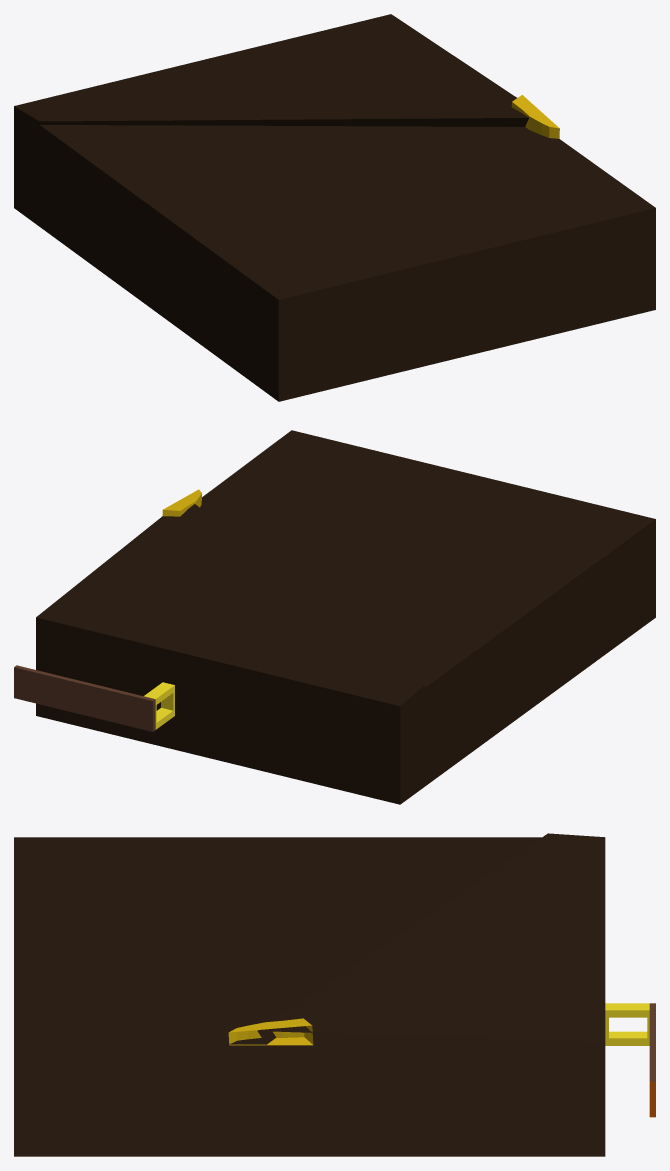
Rendered from briefcase2.gltf.
3 views of the same model, one above another, from view 1: azimuth 30°, elevation 25°; view 2: azimuth 150°, elevation 25°; view 3: azimuth 270°, elevation 25° (orthographic). The views are drawn at different scales.
Parts seen in each view (by area): view 1: Cube; view 2: Cube; view 3: Cube.
Boxes of the visible parts, x1,y1,x2,y2 form: Cube: (14, 14, 655, 401); Cube: (14, 430, 655, 804); Cube: (14, 833, 655, 1156).
Bounding box in the file's own units: 1.64 × 0.4891 × 2.17.
Materials: 1 (1 with a texture image).
